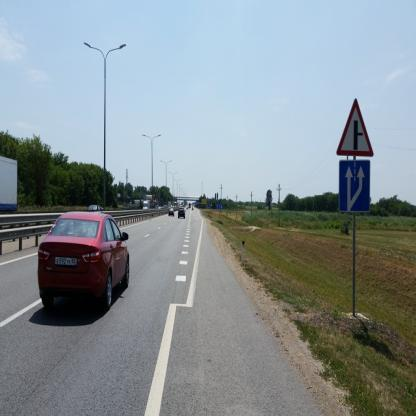road_sign: (336, 98, 373, 155), (339, 160, 369, 211)
